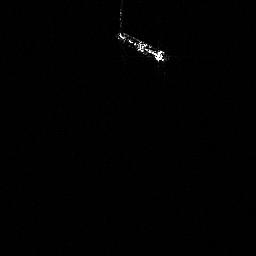ship: (113, 28, 173, 66)
